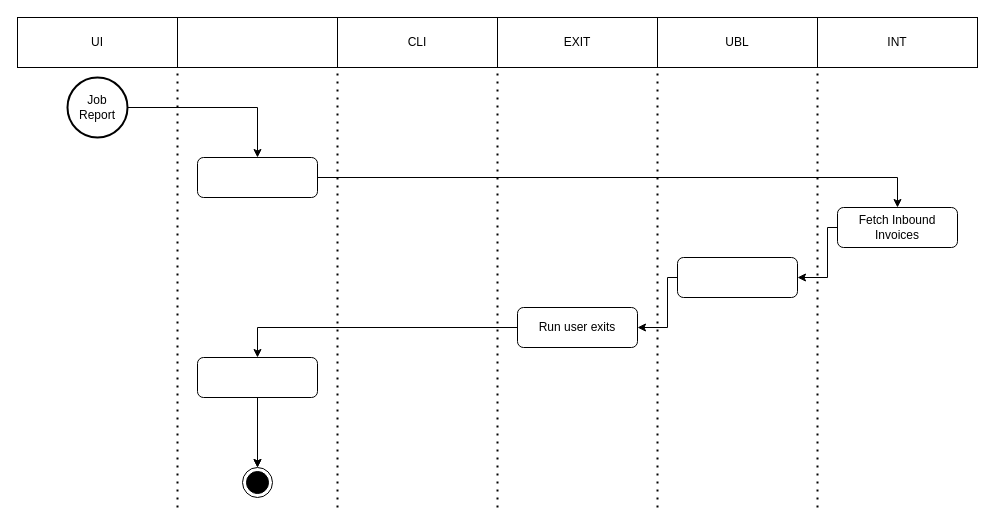
Some shapes in this 995 by 527 pixel diagram are drawn without their labels. The centre of each missing label's shape, as x and y in pixels:
Flatten: (737,277)
HOST: (257,42)
Run Inbound Extractor: (257,177)
Save to Database: (257,377)
